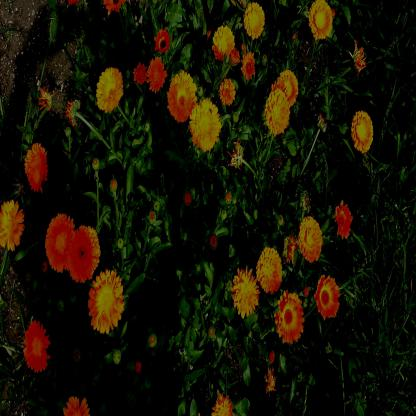marigold: (90, 270, 122, 332), (45, 215, 76, 273), (70, 224, 96, 282), (190, 100, 219, 148), (276, 292, 303, 342), (168, 74, 196, 120), (24, 321, 48, 372), (299, 216, 322, 264), (2, 199, 24, 248), (234, 270, 258, 314), (315, 276, 340, 318), (258, 247, 281, 292), (98, 69, 122, 110), (267, 90, 288, 134), (352, 110, 372, 151), (25, 147, 49, 179), (279, 71, 299, 107), (311, 2, 331, 38), (245, 2, 264, 39), (213, 24, 234, 57), (148, 58, 165, 92), (28, 164, 44, 192)
